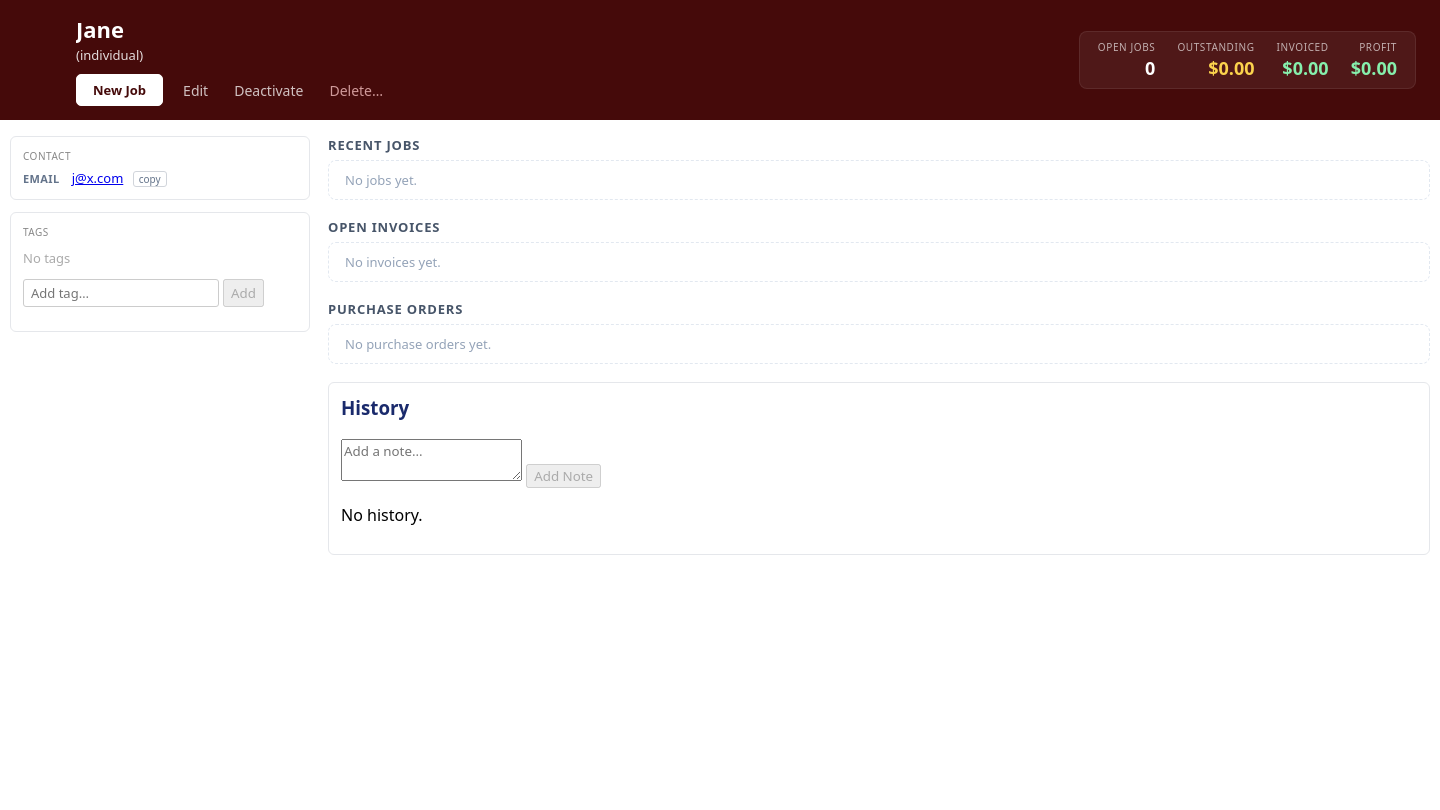
Test: ContactDetailPage business context › New Job in the banner opens the job modal
Click the button "New Job".
click(120, 90)  # box [76,74,163,106]
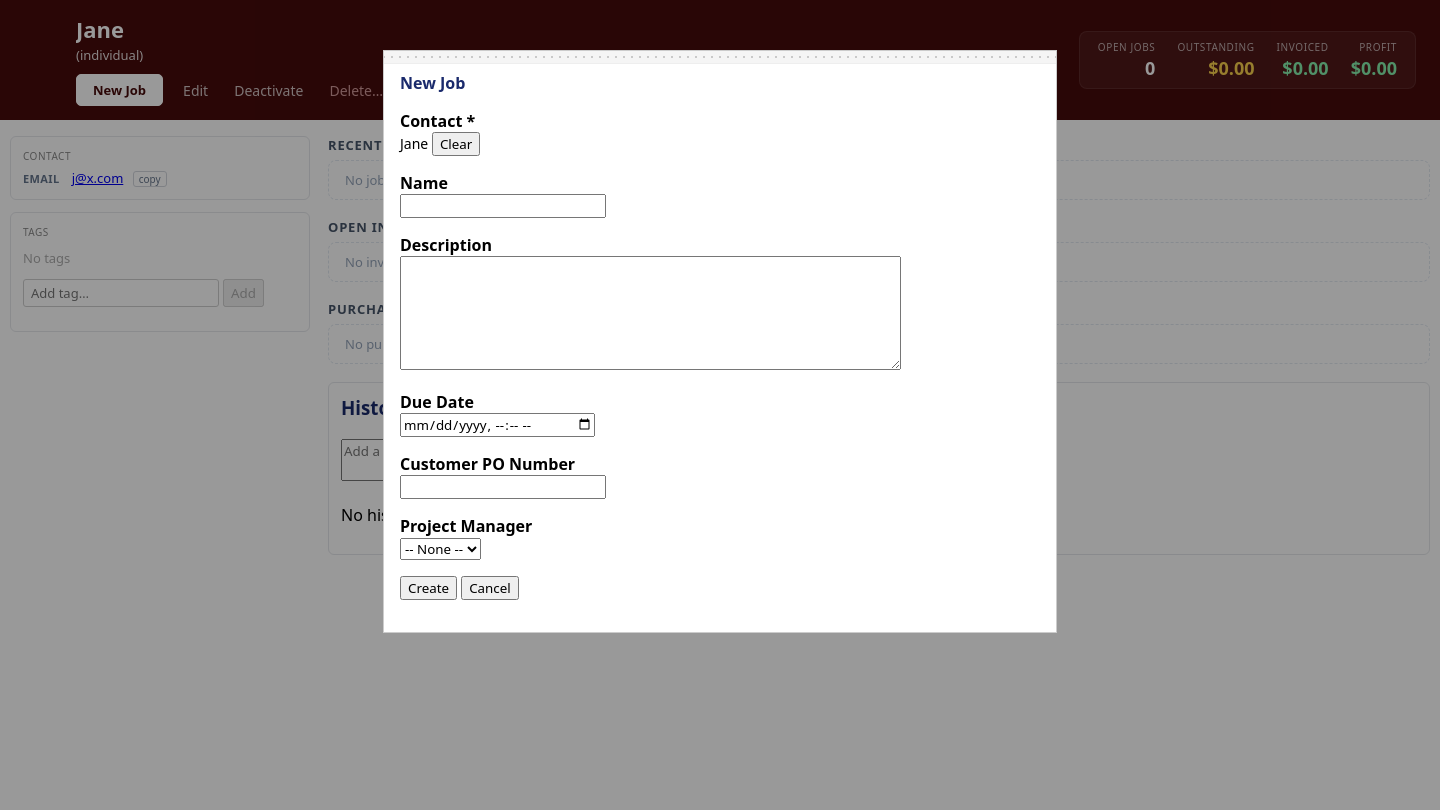
Now the dialog "New Job" is shown, box [383,50,1057,633]
